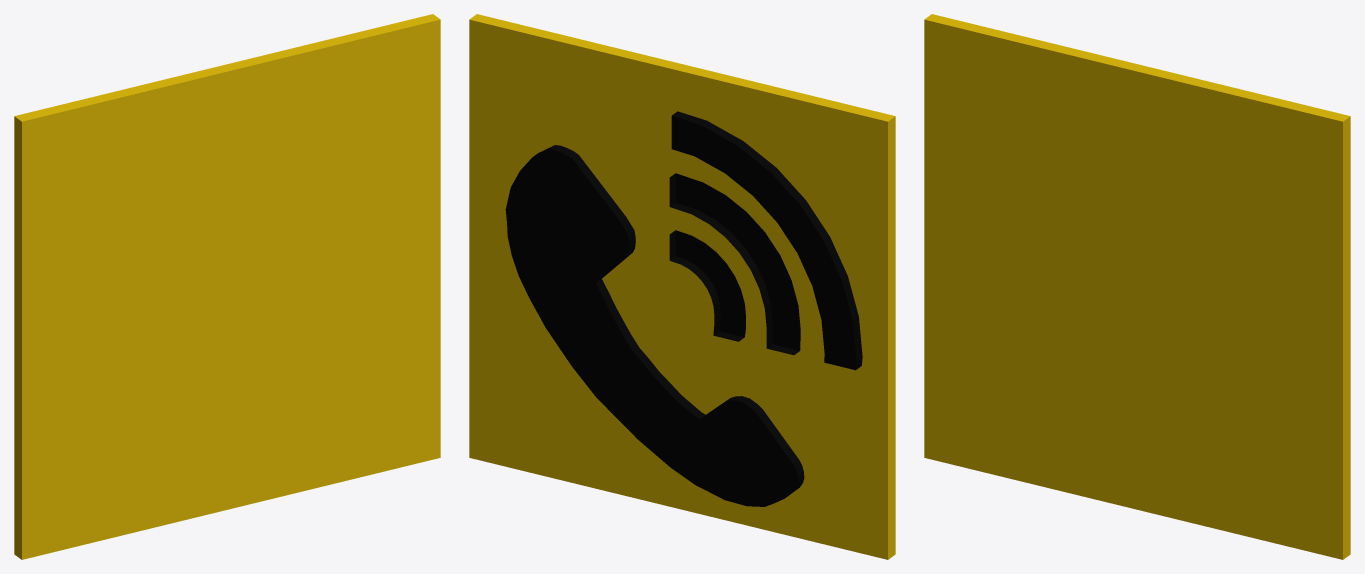
The model's file is EmergencyButton.glb.
3 renders of one model, left to right at view 1: azimuth 30°, elevation 25°; view 2: azimuth 150°, elevation 25°; view 3: azimuth 330°, elevation 25°, orthographic.
Visible parts, largest first — view 1: Cube; view 2: Cube; view 3: Cube.
Part boxes in pixels (x1,y1,x2,y2): Cube: (14,14,440,559); Cube: (469,14,895,559); Cube: (924,14,1350,559).
Size of the model in its own units: 1.22 by 1.22 by 0.0693.
